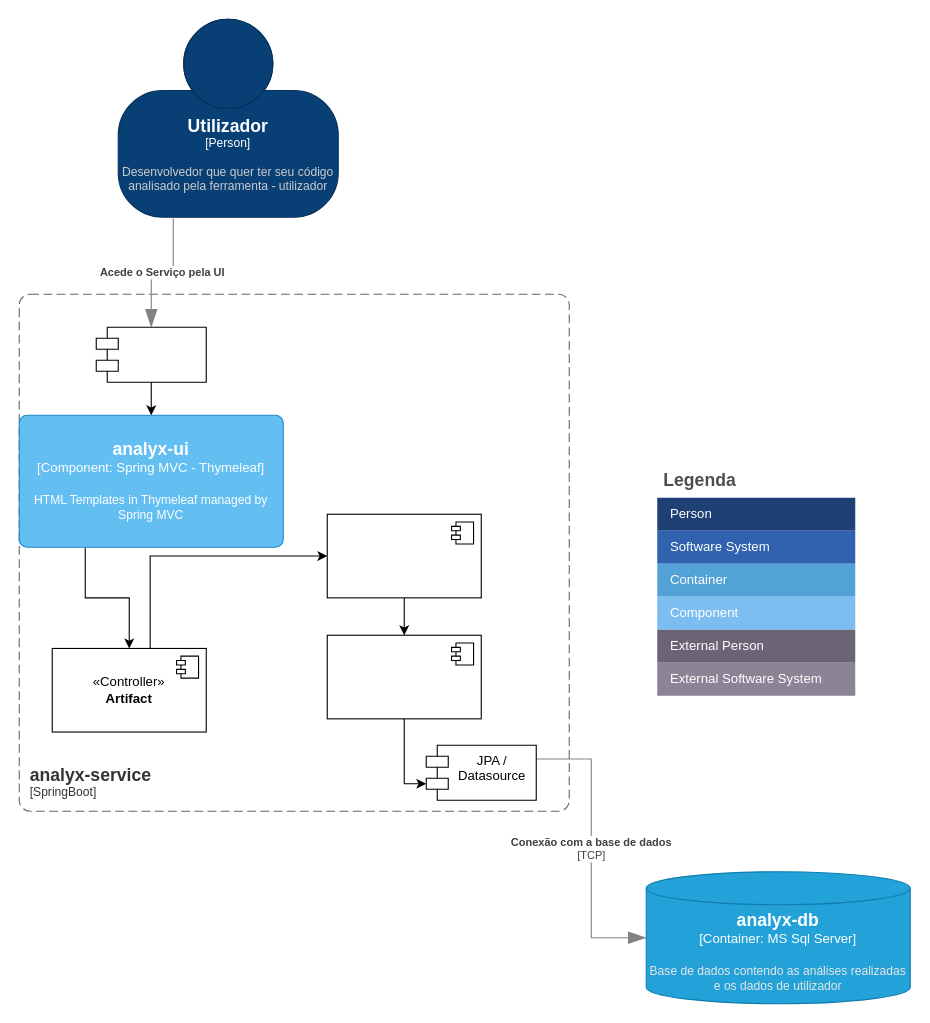
The diagram is 930 pixels wide and 1023 high, and some of its shapes have lost their labels. The shapes that lost their labels are listed below. From the top down, each one's centre as x and y in pixels, then its label:
At point (150, 354): "Spring Security".
At point (403, 555): "«Service» Artifact".
At point (403, 676): "«Repository» Artifact".
